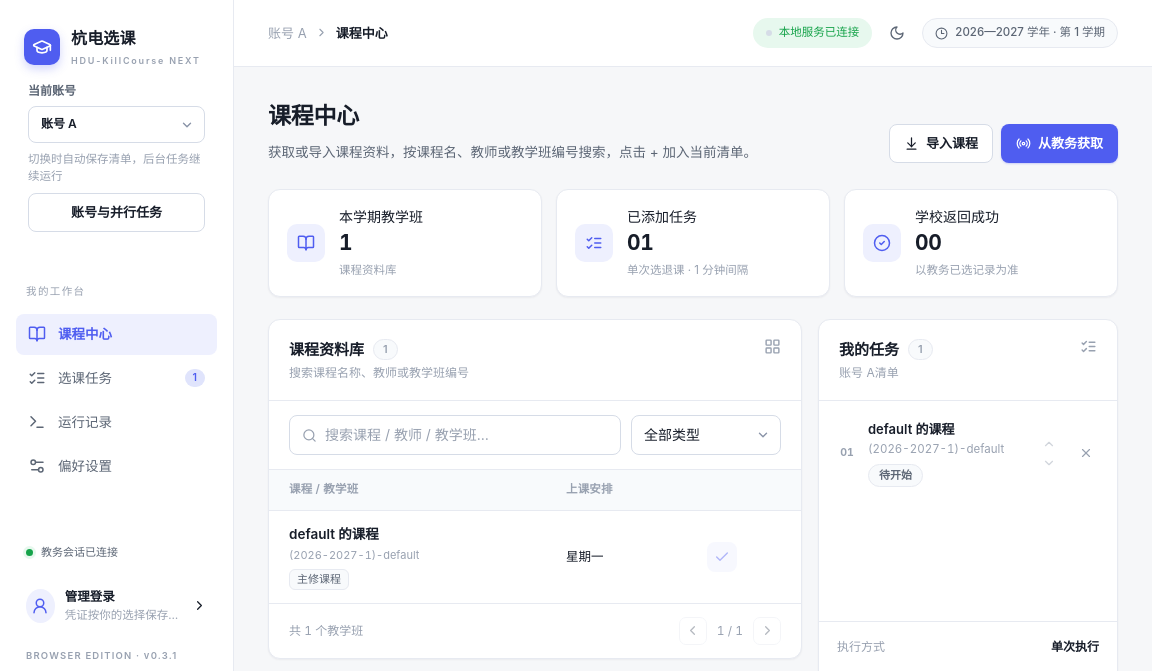
Test case: copies task configuration into a new profile without copying login credentials
Expected: the button "default 的课程" is shown, [289, 524, 379, 545]
Click the button "账号与并行任务" at (116, 212), box [28, 193, 205, 232]
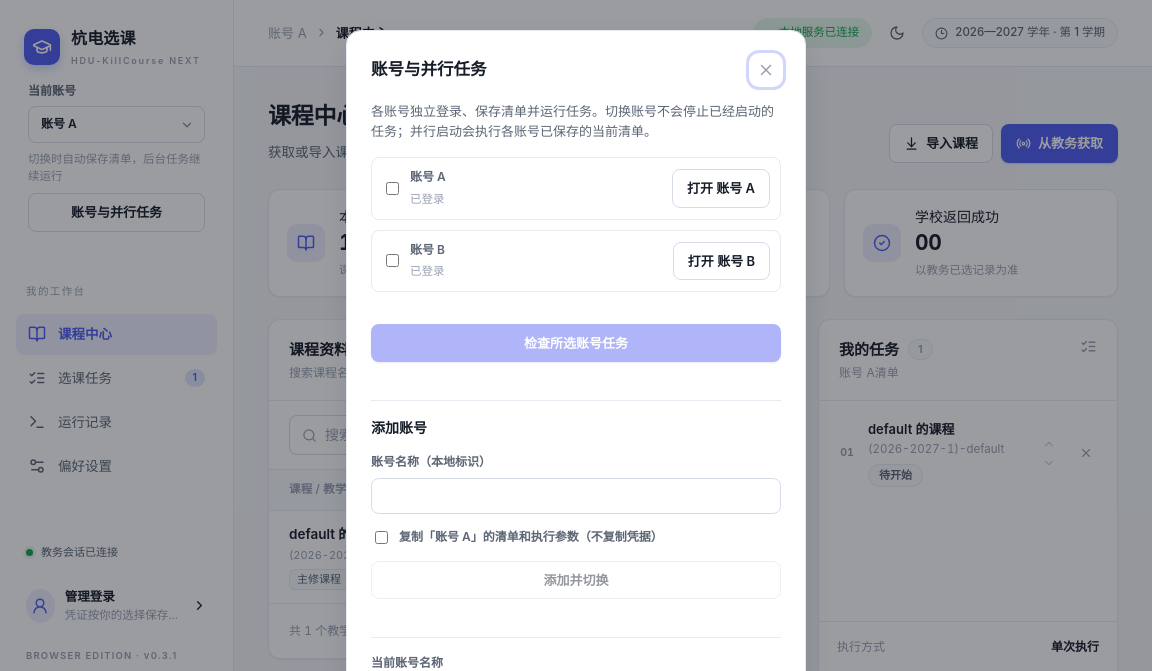
Type "新账号" into the field labelled "账号名称（本地标识）" at (576, 496), box [371, 478, 781, 514]
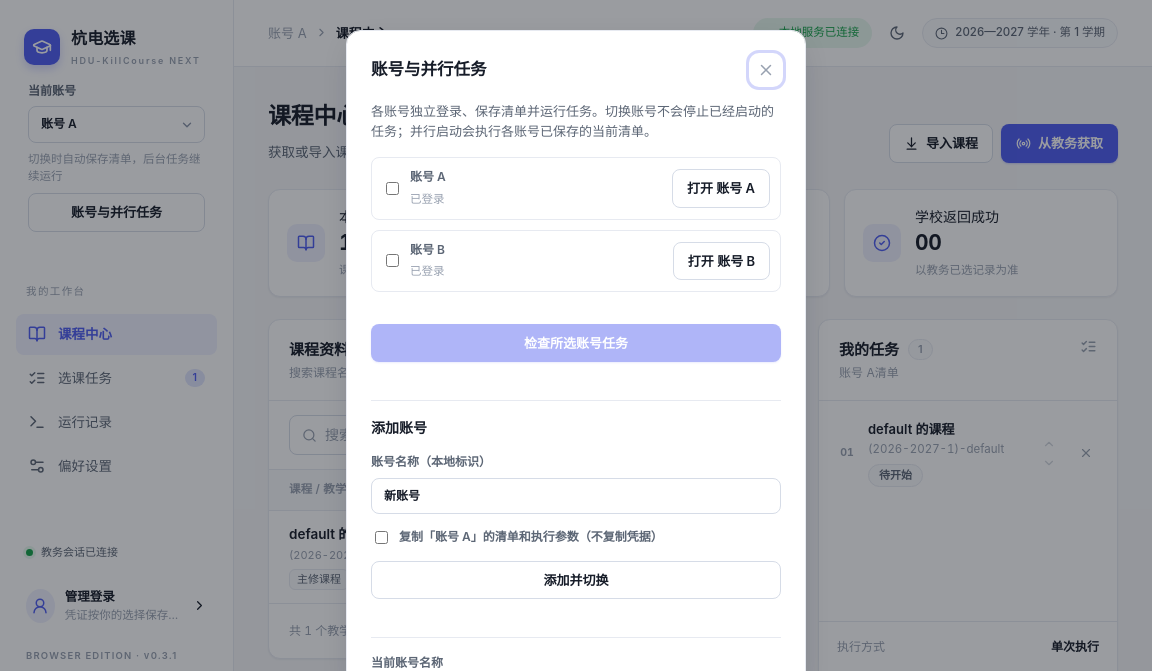
Click the checkbox labelled "复制「账号 A」的清单和执行参数（不复制凭据）" at (382, 538), box [375, 531, 388, 544]
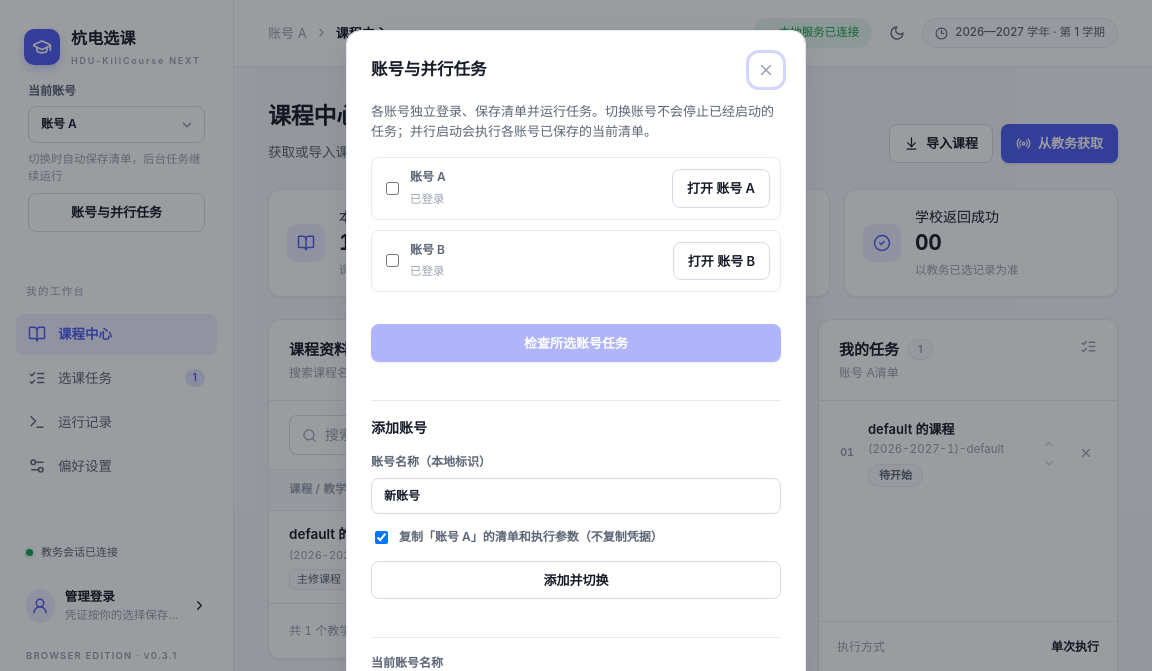
Click the button "添加并切换" at (576, 580), box [371, 561, 781, 599]
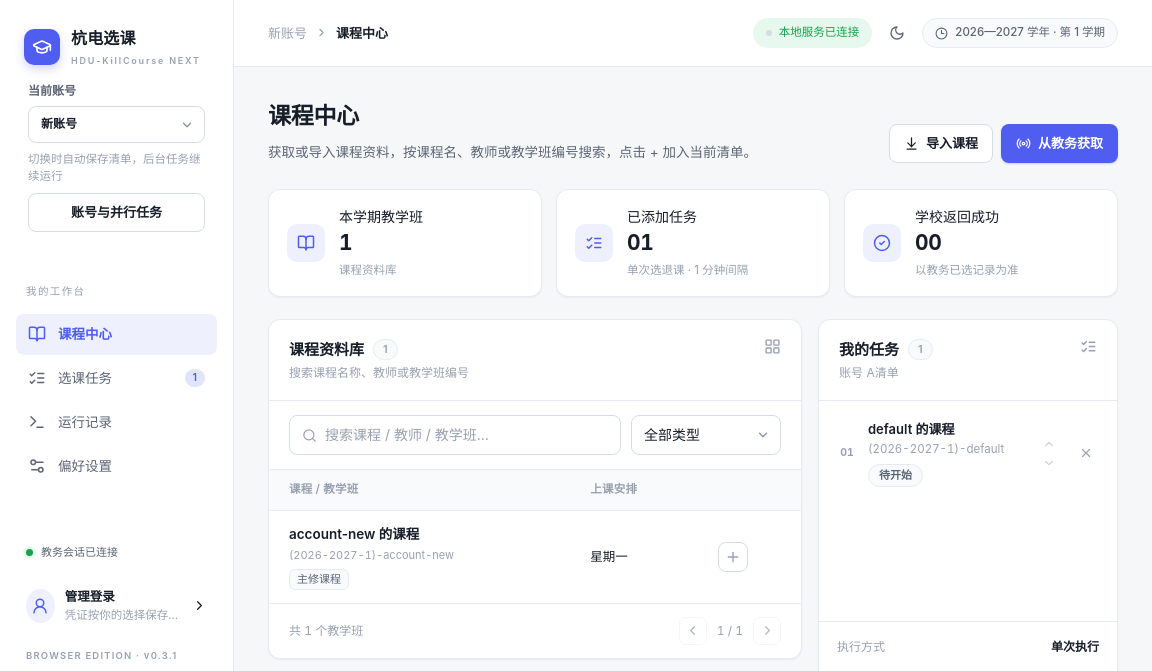
Now the dropdown labelled "当前账号" shows "新账号", box [28, 106, 205, 143]
